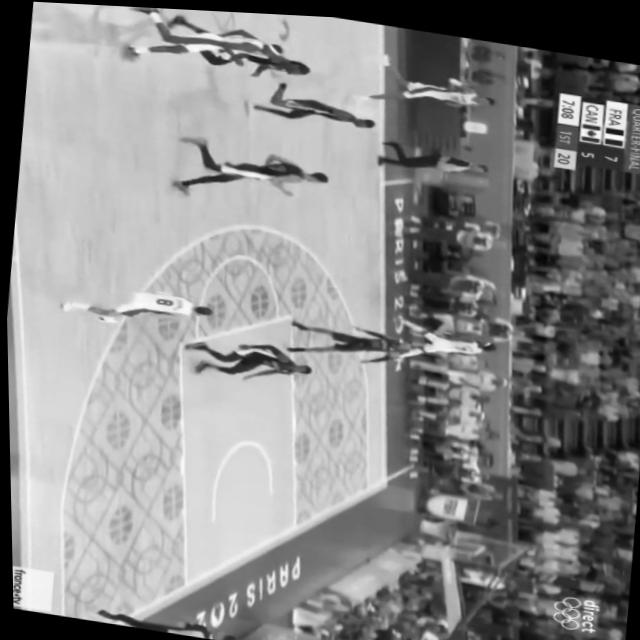ball_handler: (65, 278, 210, 331)
